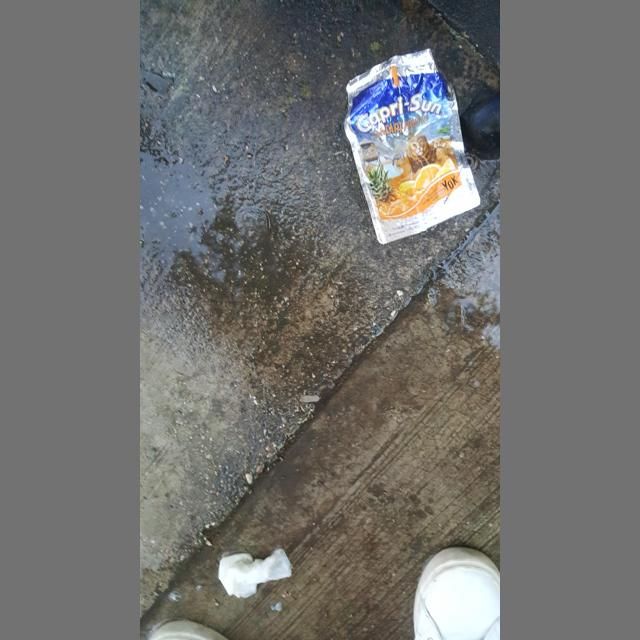litter: (344, 48, 480, 244), (218, 548, 294, 599), (391, 66, 399, 87)
